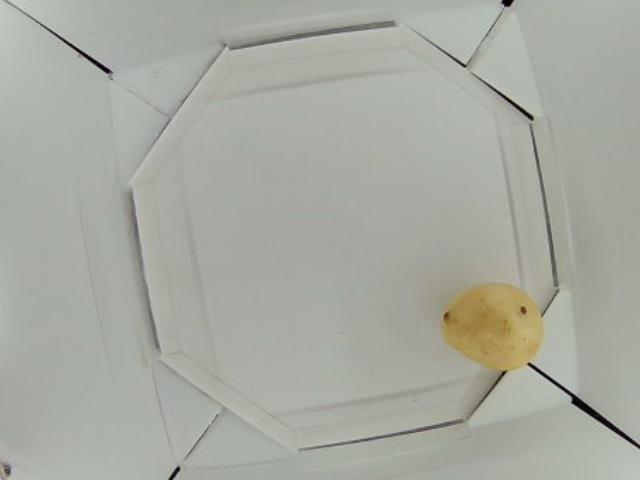Potato: (445, 280, 545, 369)
